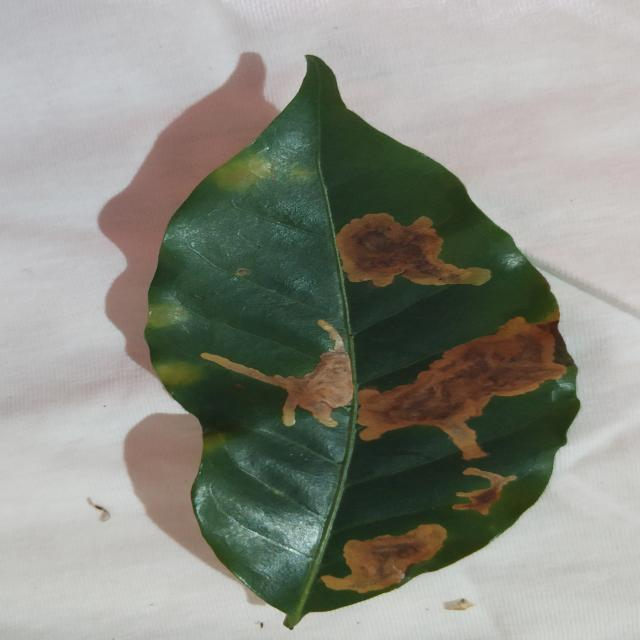Plaga-Minador: (143, 57, 581, 630)
